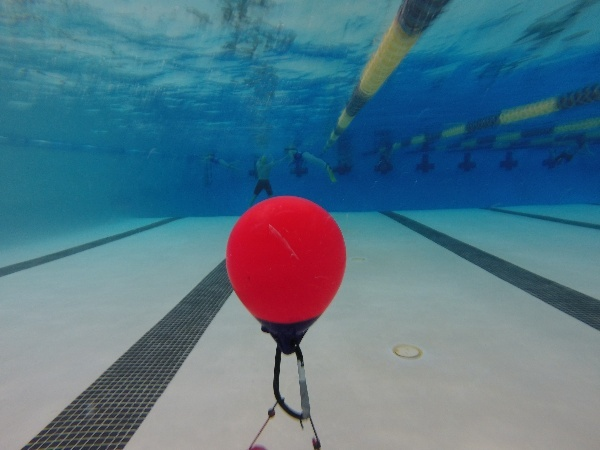buoy_red: (213, 196, 358, 357)
